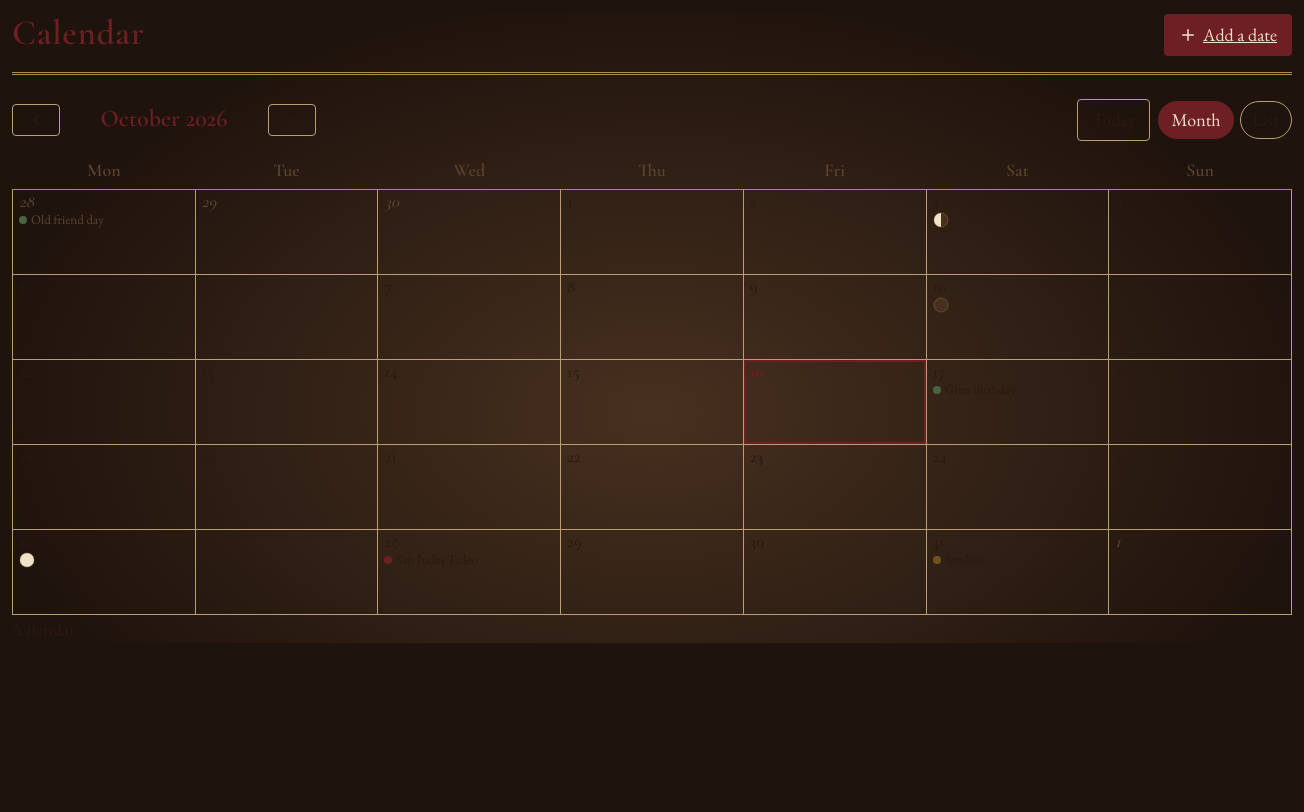
Calendar › Today asks the server for the day again, so it follows midnight
Click the button "Today".
click(1114, 120)  # box [1077,99,1150,141]
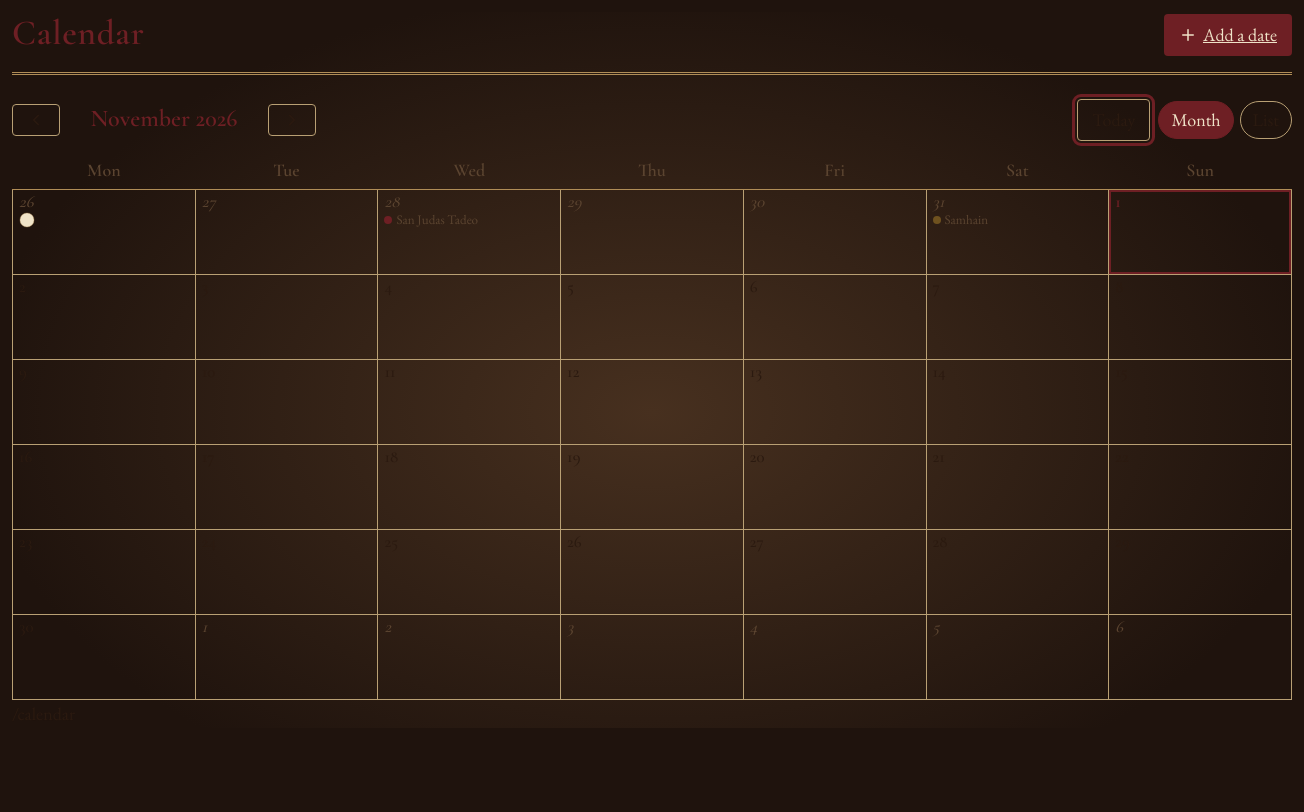
Expected: the heading "November 2026" is shown, [90,104,238,133]
